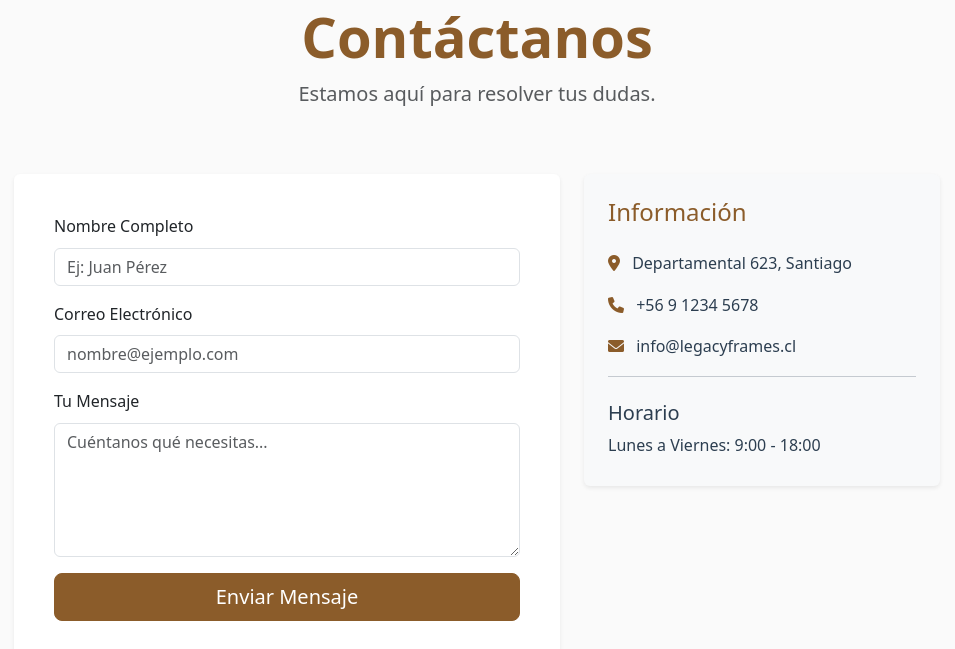
Scenario: Contacto Component › envía mensaje exitosamente
Type "Usuario Prueba" into the field with placeholder "Ej: Juan Pérez" at (287, 267), box [54,248,520,286]
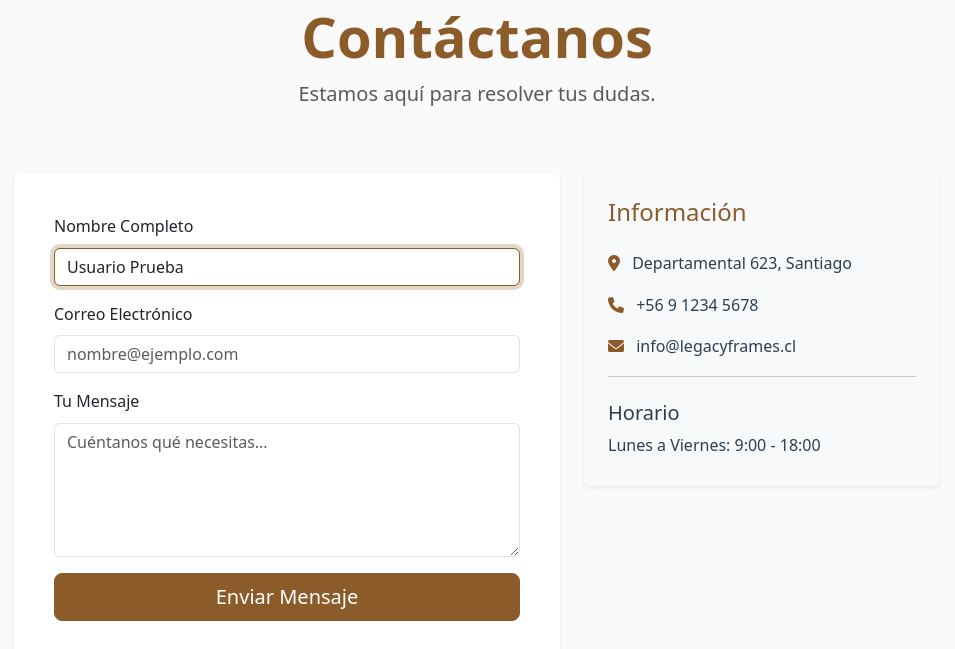
Type "test@correo.com" into the field with placeholder "nombre@ejemplo.com" at (287, 354), box [54,335,520,373]
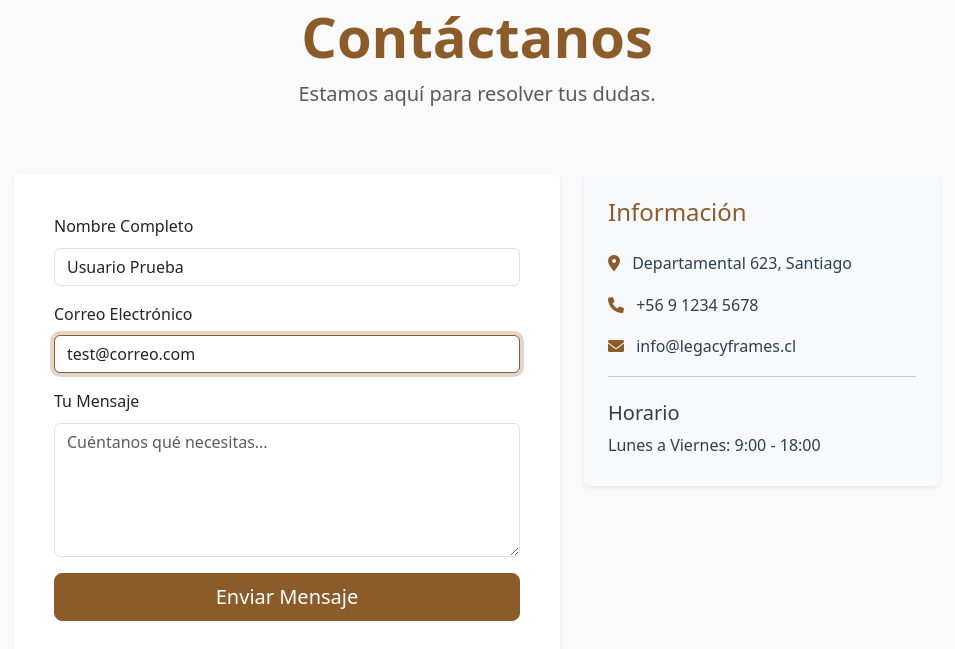
Type "Hola, esto es una prueba" into the text box with placeholder "Cuéntanos qué necesitas..." at (287, 490), box [54,423,520,557]
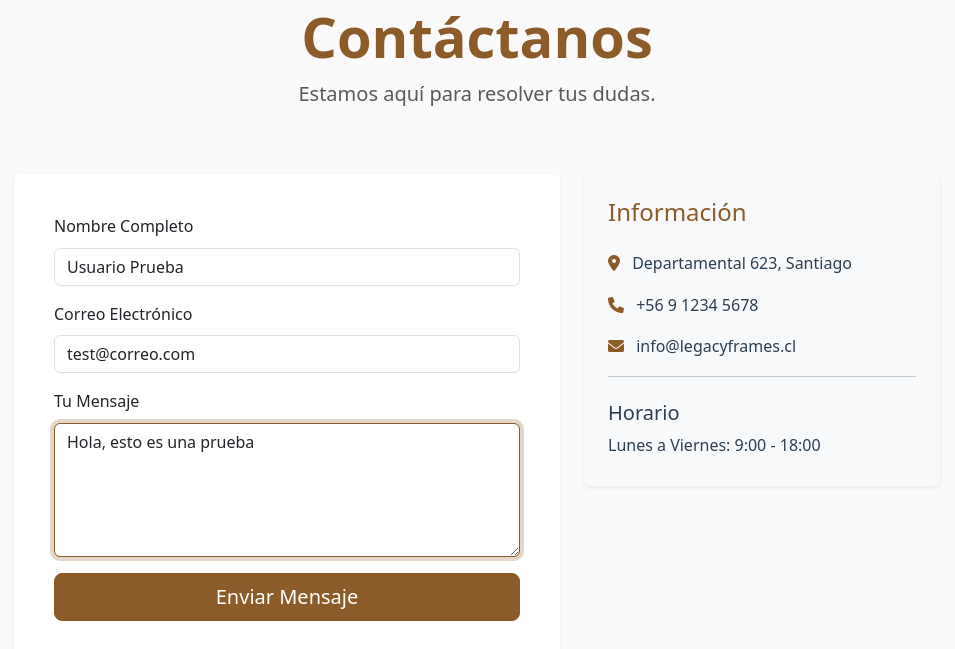
Click the button "Enviar Mensaje" at (287, 597), box [54,573,520,621]
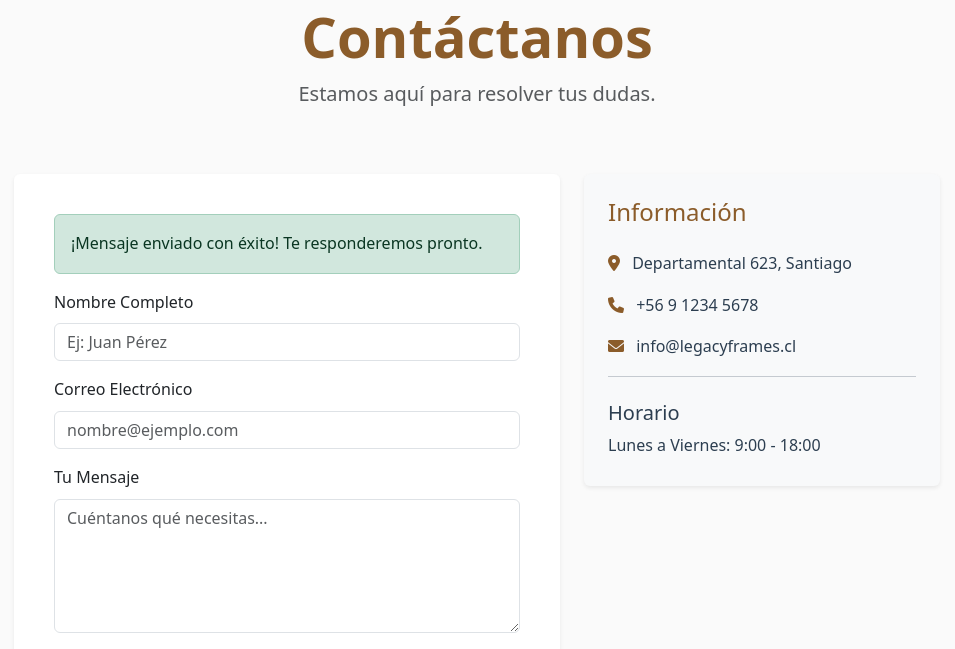
Expected: the text "¡Mensaje enviado con éxito! Te responderemos pronto." is shown, [54,214,520,274]
